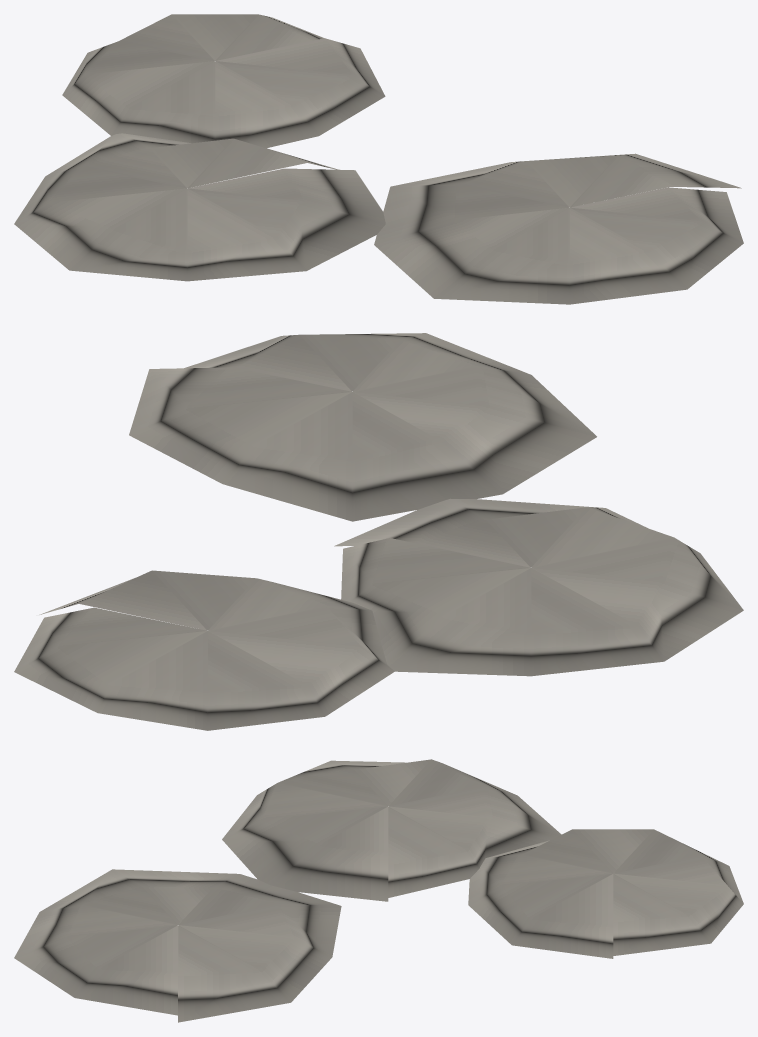
Rendered from path-2.gltf.
The picture shows the model from 3 angles, top to bottom: view 1: azimuth 30°, elevation 25°; view 2: azimuth 150°, elevation 25°; view 3: azimuth 270°, elevation 25°; orthographic projection. The views are drawn at different scales.
Bounding box in the file's own units: 1.63 × 0.06 × 1.92.
1 material, 1 textured.
